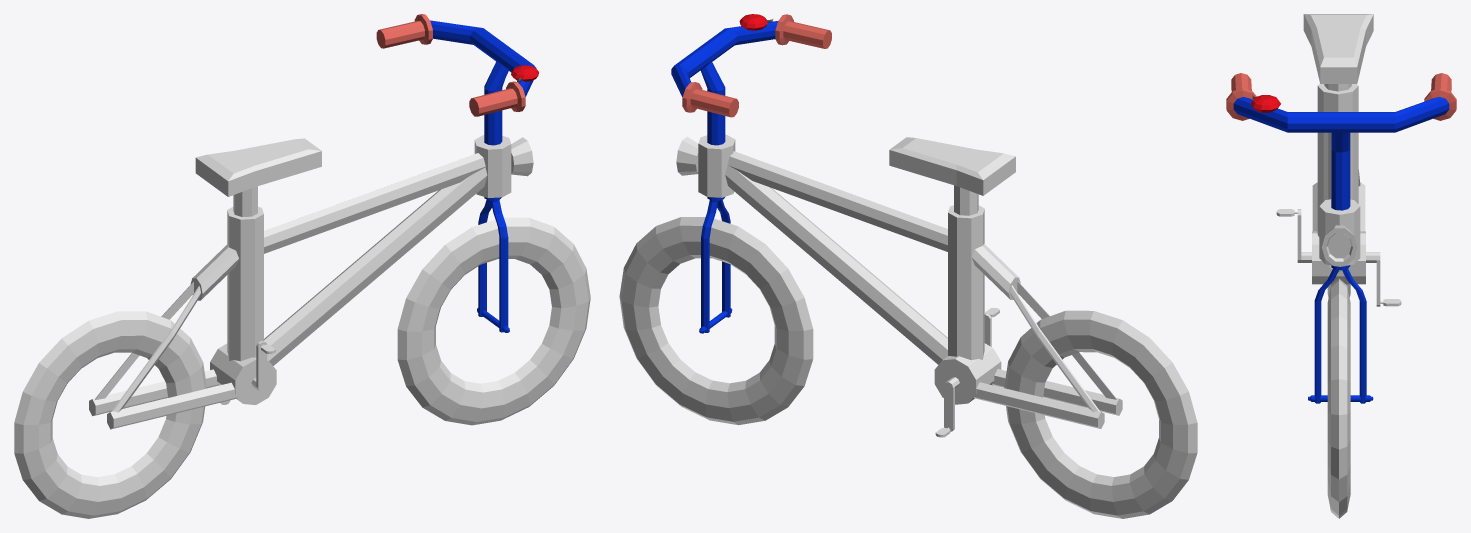
File: Bike3.fbx
3 renders of one model, left to right at view 1: azimuth 30°, elevation 25°; view 2: azimuth 150°, elevation 25°; view 3: azimuth 270°, elevation 25°, orthographic. The views are drawn at different scales.
Visible parts, largest first — view 1: Cylinder.010, Torus.002, Torus.001, Cylinder.009, Cylinder.015; view 2: Cylinder.010, Torus.002, Torus.001, Cylinder.009, Cylinder.015; view 3: Cylinder.010, Cylinder.009, Torus.002, Cylinder.015.
Boxes of the visible parts, x1,y1,x2,y2 form: Cylinder.010: (89, 135, 533, 429); Torus.002: (397, 217, 590, 425); Torus.001: (14, 311, 206, 518); Cylinder.009: (376, 14, 538, 332); Cylinder.015: (220, 341, 275, 404); Cylinder.010: (676, 134, 1122, 428); Torus.002: (619, 217, 813, 425); Torus.001: (1004, 310, 1197, 518); Cylinder.009: (671, 14, 831, 333); Cylinder.015: (935, 307, 999, 437); Cylinder.010: (1303, 14, 1373, 284); Cylinder.009: (1226, 73, 1456, 403); Torus.002: (1327, 279, 1350, 518); Cylinder.015: (1276, 209, 1401, 306).
Bounding box in the file's own units: 217 × 137 × 69.82.
